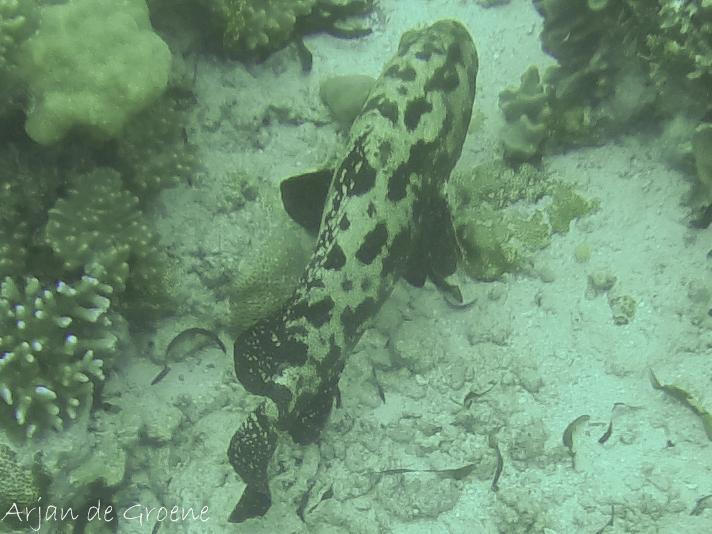Fish: (138, 8, 532, 528)
